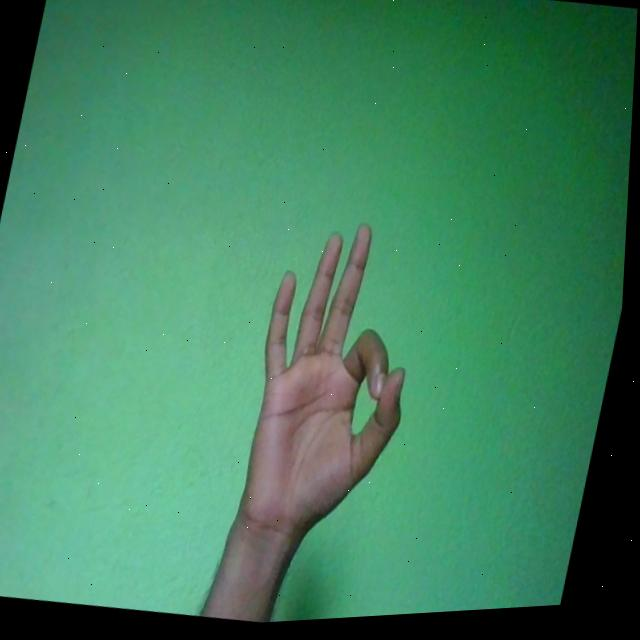Ok: (230, 210, 442, 560)
